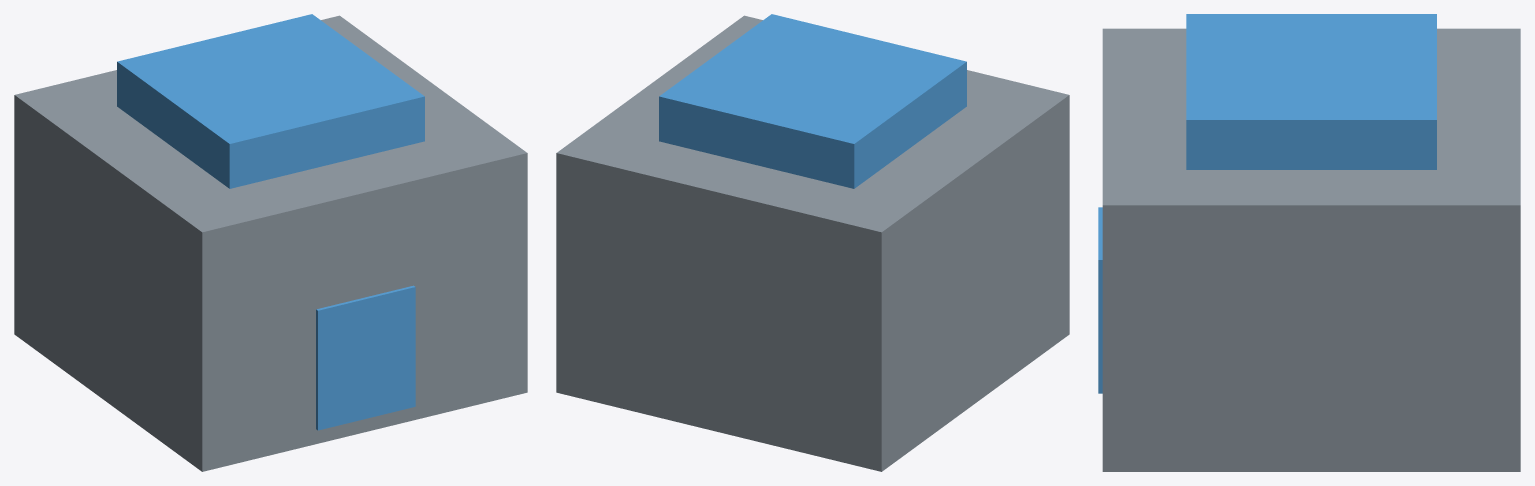
File: AL_SuperweaponChrono_LOD0.glb
3 renders of one model, left to right at view 1: azimuth 30°, elevation 25°; view 2: azimuth 150°, elevation 25°; view 3: azimuth 270°, elevation 25°, orthographic. The views are drawn at different scales.
Parts seen in each view (by area): view 1: EntranceGate; view 2: EntranceGate; view 3: EntranceGate.
Part boxes in pixels (x1=…): EntranceGate: x1=14, y1=14, x2=527, y2=471; EntranceGate: x1=556, y1=14, x2=1069, y2=471; EntranceGate: x1=1098, y1=14, x2=1520, y2=471.
Size of the model in its own units: 1000 by 836 by 1010.
